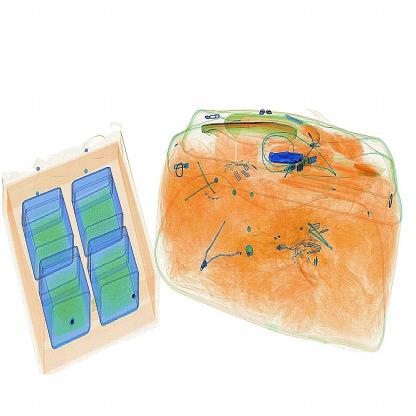knife: (261, 144, 313, 174)
